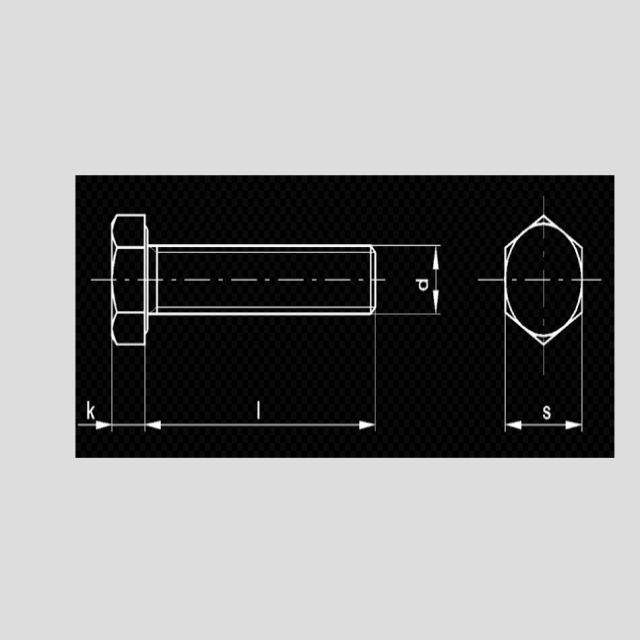marking_line: (107, 349, 381, 458), (142, 346, 379, 440), (77, 347, 162, 451), (502, 348, 587, 433), (377, 243, 444, 322), (74, 348, 119, 443)
